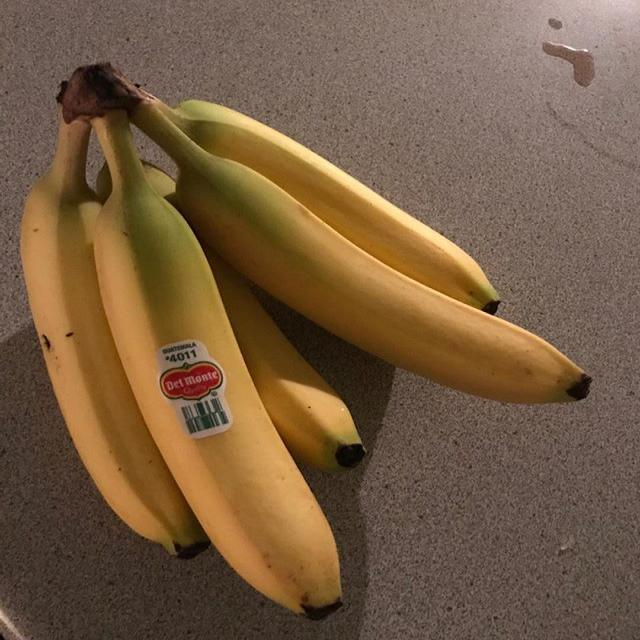unpeal banana: (128, 88, 589, 403), (92, 111, 340, 617), (21, 121, 207, 556), (157, 100, 497, 313), (204, 247, 364, 470), (204, 248, 364, 470), (143, 161, 174, 197)
